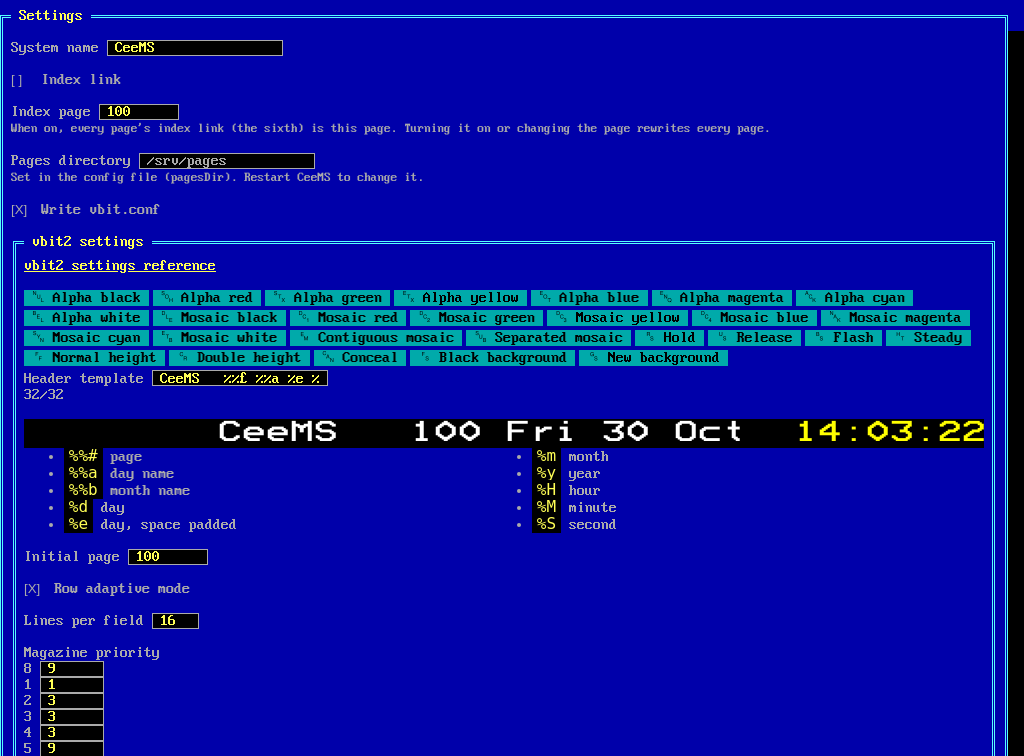
the palette inserts a control code at the caret and the counter follows
Replace the text in the field labelled "Header template" with "AB" at (240, 378), box [152, 370, 328, 386]
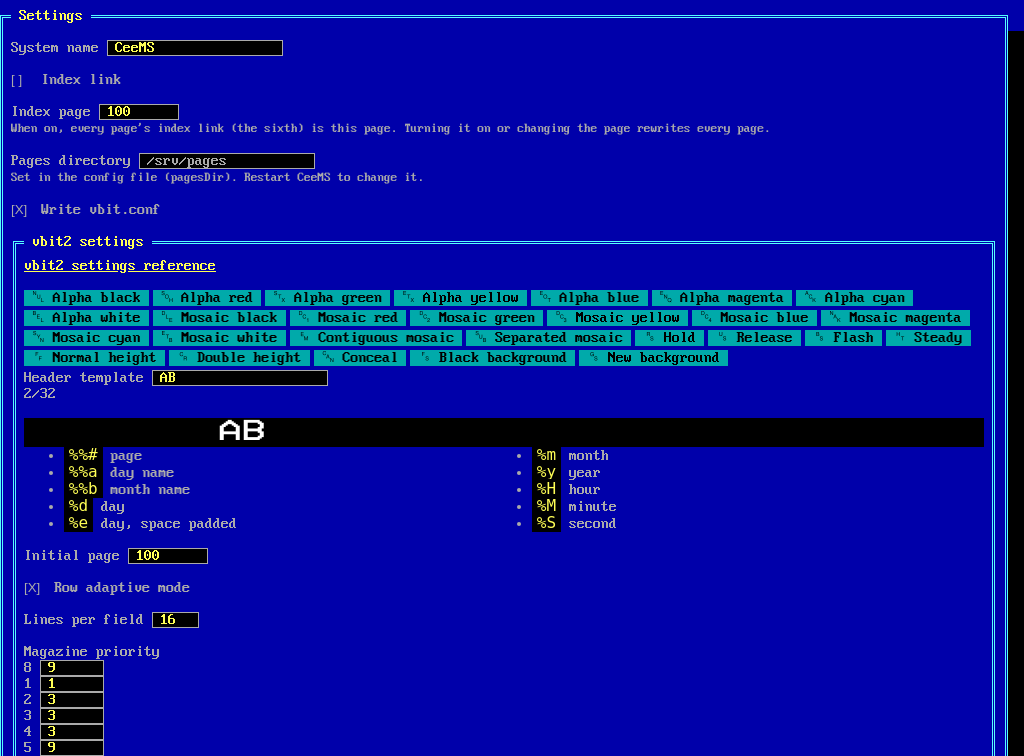
Click the button "␀ Alpha black" at (86, 298), box [24, 290, 149, 306]
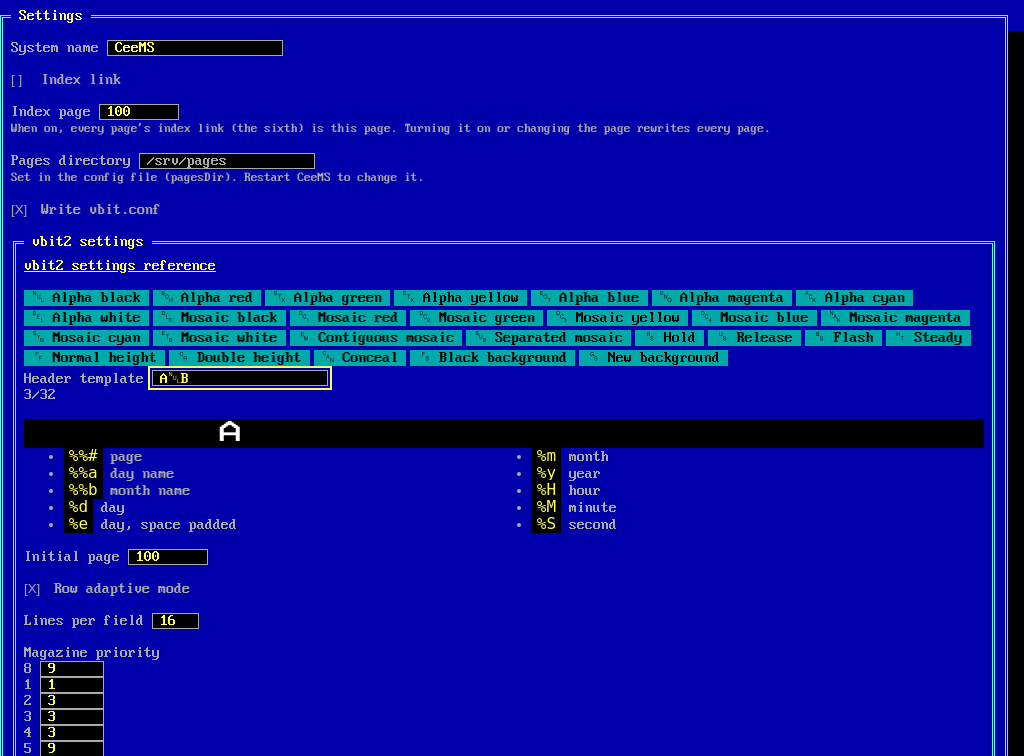
Check: the text with class "count" reads "3/32", box [24, 387, 56, 403]
